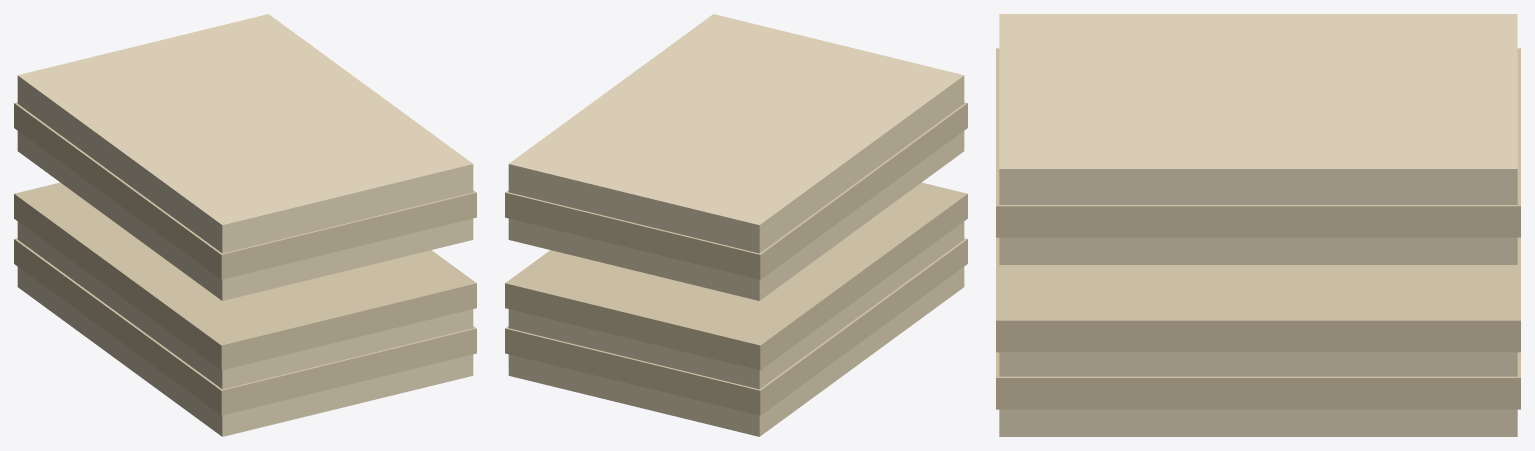
The model's file is ataduras_cabeca.glb.
3 renders of one model, left to right at view 1: azimuth 30°, elevation 25°; view 2: azimuth 150°, elevation 25°; view 3: azimuth 270°, elevation 25°, orthographic. The views are drawn at different scales.
Parts seen in each view (by area): view 1: ataduras_cabeca; view 2: ataduras_cabeca; view 3: ataduras_cabeca.
Part boxes in pixels (x1,y1,x2,y2): ataduras_cabeca: [14, 14, 476, 436]; ataduras_cabeca: [505, 14, 967, 436]; ataduras_cabeca: [996, 14, 1520, 436].
Bounding box in the file's own units: 0.59 × 0.4675 × 0.83.
